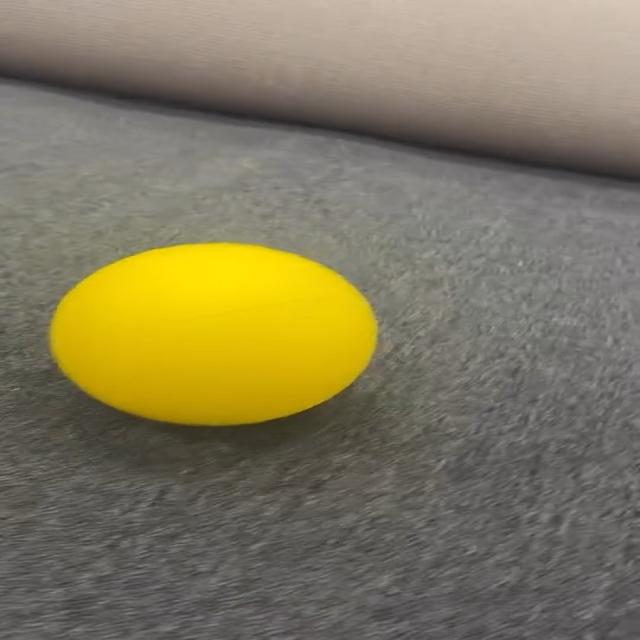Fuels: (51, 244, 378, 424)
